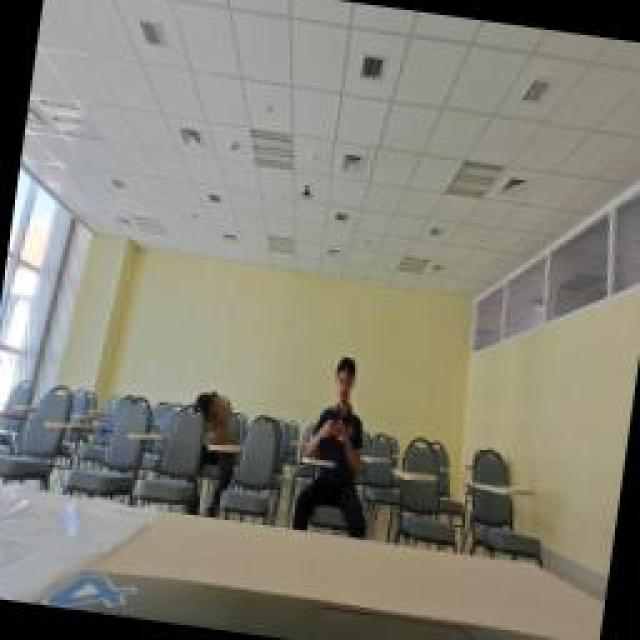phone: (302, 345, 378, 463)
sleep: (185, 377, 240, 445)
